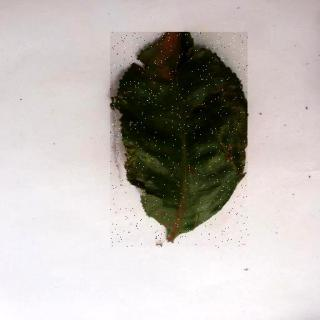Algal Leaf: (111, 34, 249, 249)
